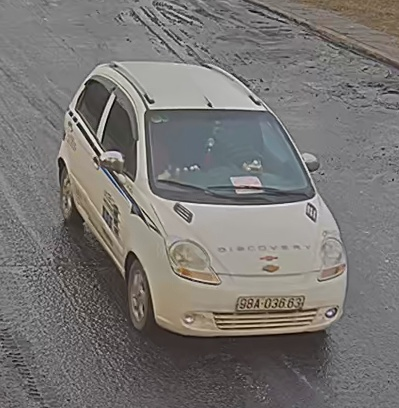vehicle plate: (233, 293, 309, 314)
